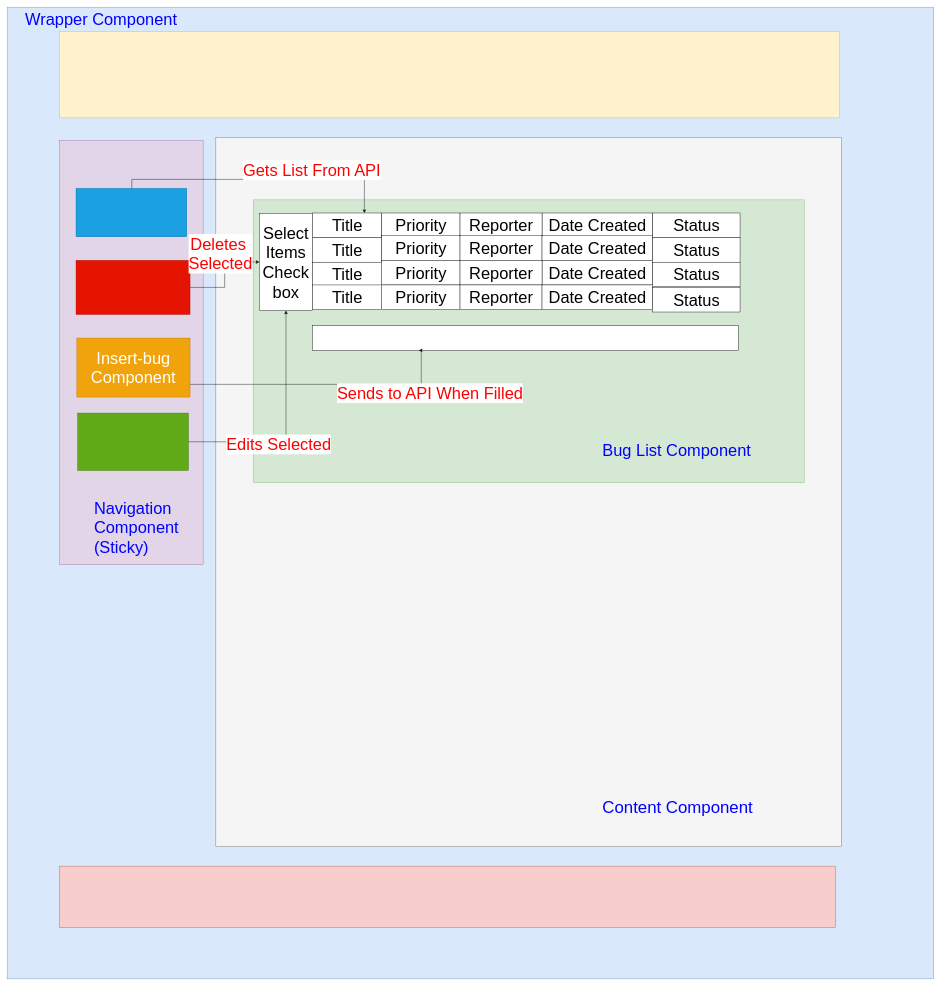
This 941x986 diagram has some shape labels left out. Here are the shapes that lost their labels. From the top down, the centre of each, then its label:
At (449,74): "Header Component Welcome to Report a Bug App!".
At (131,212): "Get-bug Component".
At (133,287): "Delete-bug Component".
At (525,337): "Add a New Bug".
At (132,441): "Update-bug Component".
At (447,897): "Footer Component Created By Team_4".
